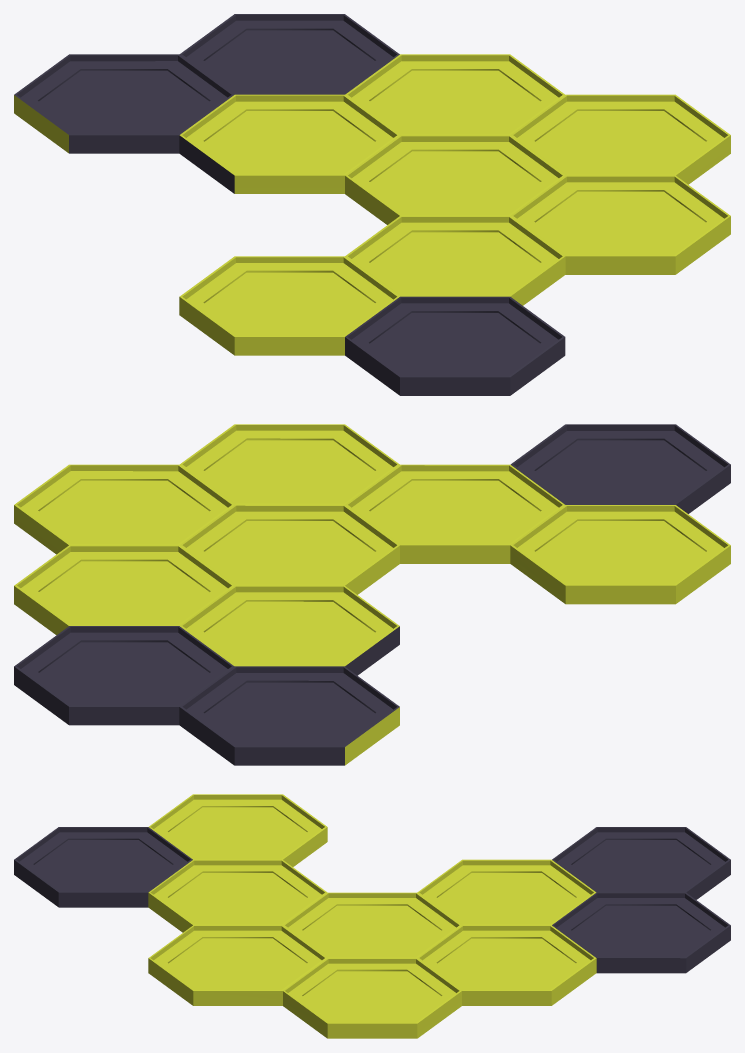
The model's file is MoldInsertStage2_2.fbx.
3 views of the same model, one above another, from view 1: azimuth 30°, elevation 25°; view 2: azimuth 150°, elevation 25°; view 3: azimuth 270°, elevation 25° (orthographic). The views are drawn at different scales.
Visible parts, largest first — view 1: MoldInsertStage2_2; view 2: MoldInsertStage2_2; view 3: MoldInsertStage2_2.
Part boxes in pixels (x1,y1,x2,y2): MoldInsertStage2_2: (14,14,730,395); MoldInsertStage2_2: (14,424,730,765); MoldInsertStage2_2: (14,794,730,1038).
Size of the model in its own units: 637 by 19.69 by 841.
